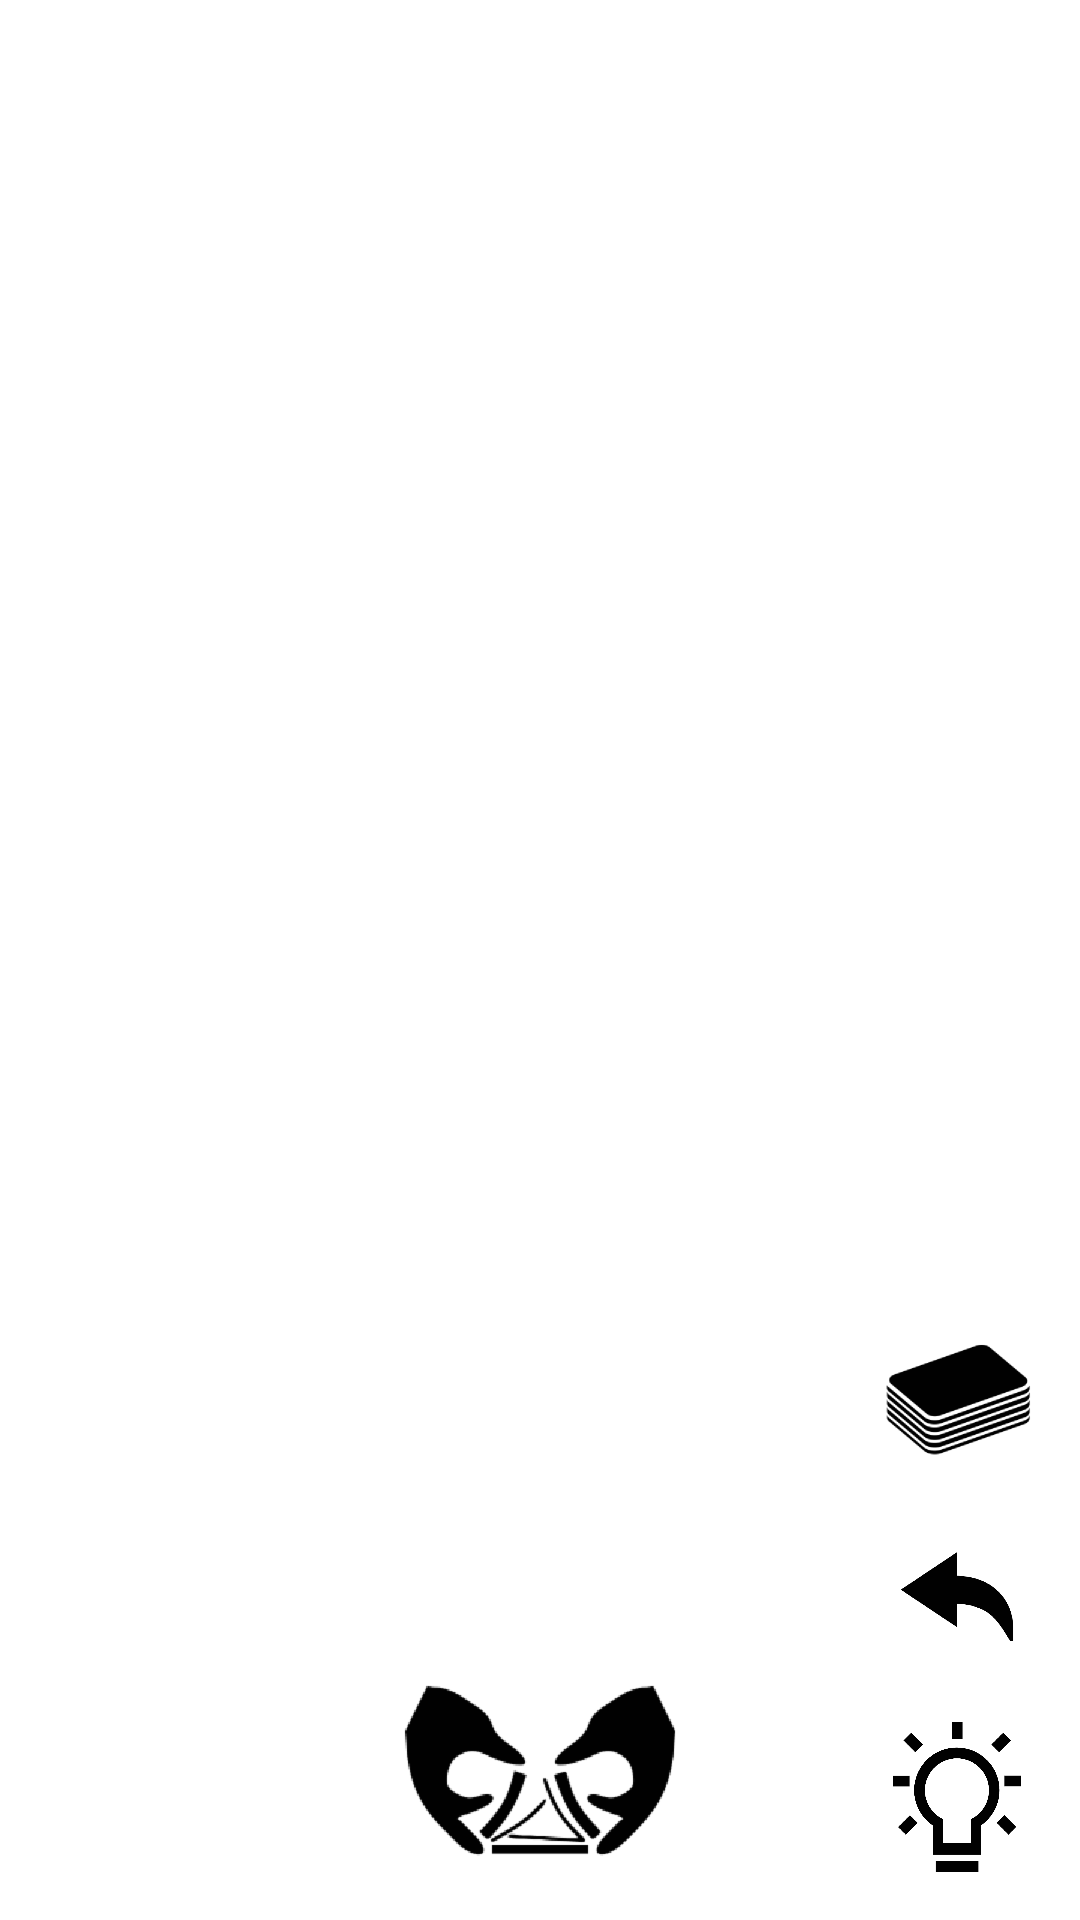

Point at icon controls on the screen. Image size 1080px×1920px, points as [x,y].
game: [958,1400]
shuffle: [540,1771]
undo: [957,1596]
